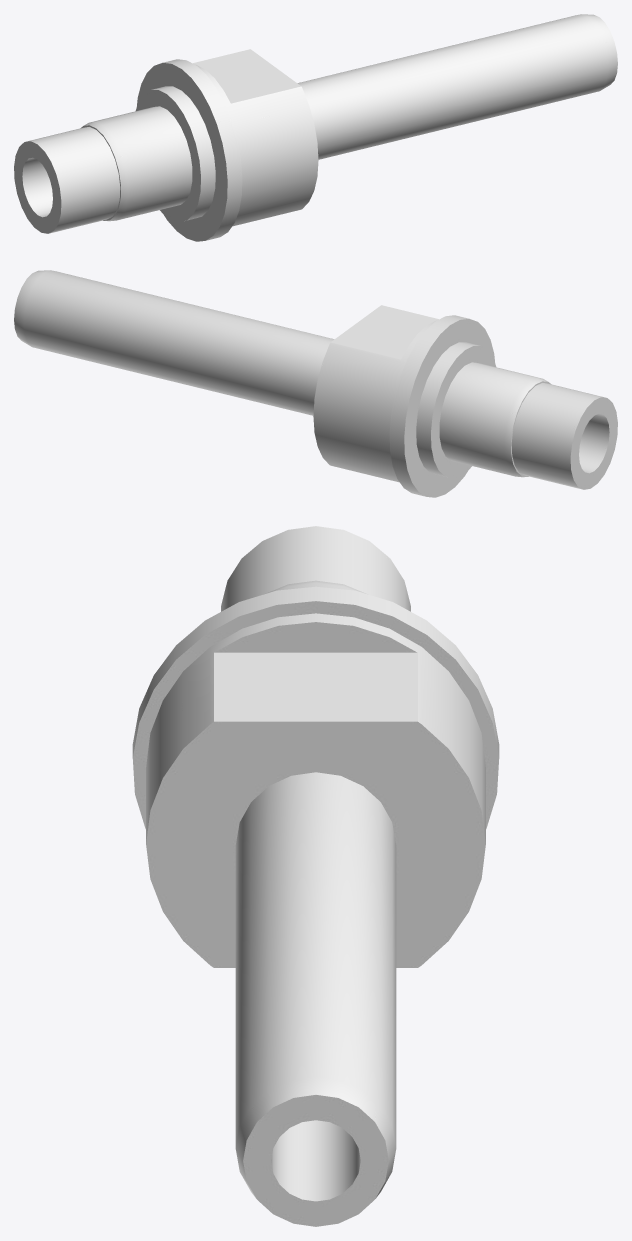
The model's file is Axis.obj.
3 views of the same model, one above another, from view 1: azimuth 30°, elevation 25°; view 2: azimuth 150°, elevation 25°; view 3: azimuth 270°, elevation 25° (orthographic). The views are drawn at different scales.
Parts seen in each view (by area): view 1: Axis_Material.002; view 2: Axis_Material.002; view 3: Axis_Material.002.
Part boxes in pixels (box(x1,y1,x2,y2)): Axis_Material.002: box(14, 14, 617, 241); Axis_Material.002: box(14, 270, 617, 497); Axis_Material.002: box(132, 526, 499, 1226).
Size of the model in its own units: 0.955 by 0.2692 by 0.2696.
Materials: 1 (1 with a texture image).
